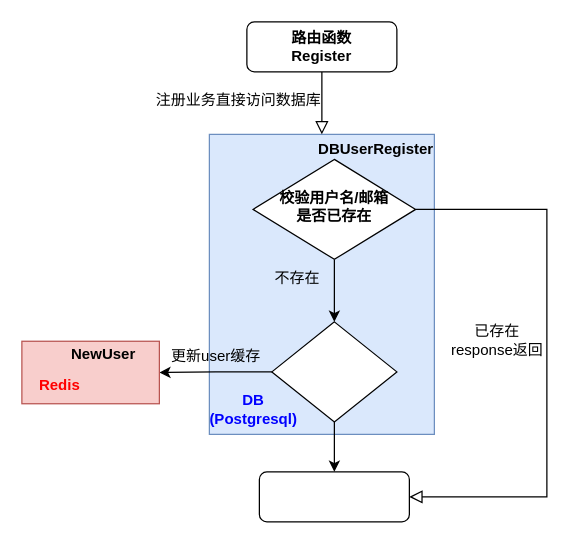
This 581x544 diagram has some shape labels left out. Each missing label, with the box of its shape:
插入新的 user数据: (271, 321, 397, 422)
注册业务完成: (258, 471, 409, 522)
